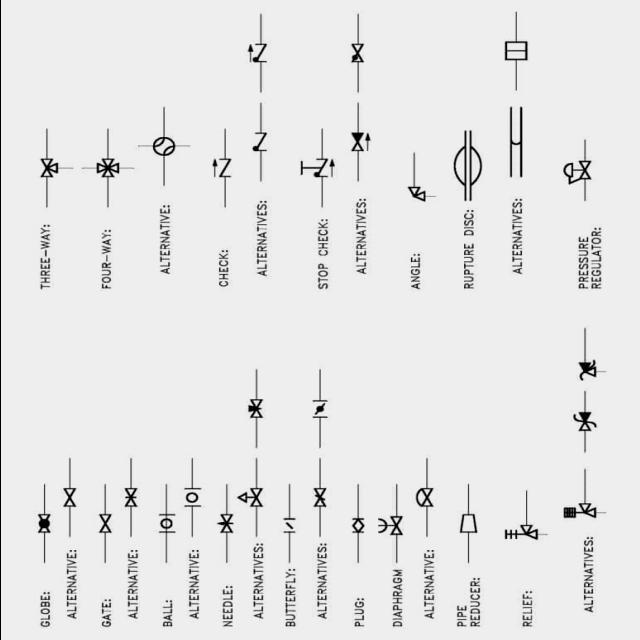3 Way Gate Valve: (30, 156, 64, 178)
4 Way Gate Valve: (82, 153, 124, 185)
Angle Valve: (391, 163, 439, 216)
Butterfly Valve: (298, 389, 328, 432), (308, 482, 330, 515)
Check Valve: (232, 25, 278, 78), (240, 120, 276, 164), (202, 148, 238, 186)
Gate Valve: (92, 510, 115, 540), (56, 486, 78, 514)
Globe Valve: (27, 506, 53, 541)
Needle Valve: (236, 388, 269, 433), (228, 481, 270, 511), (210, 509, 238, 538), (118, 483, 142, 512)
PSV: (490, 515, 552, 551)
Pressure Regulator: (550, 131, 612, 206)
Stop Valve: (290, 143, 346, 185)
